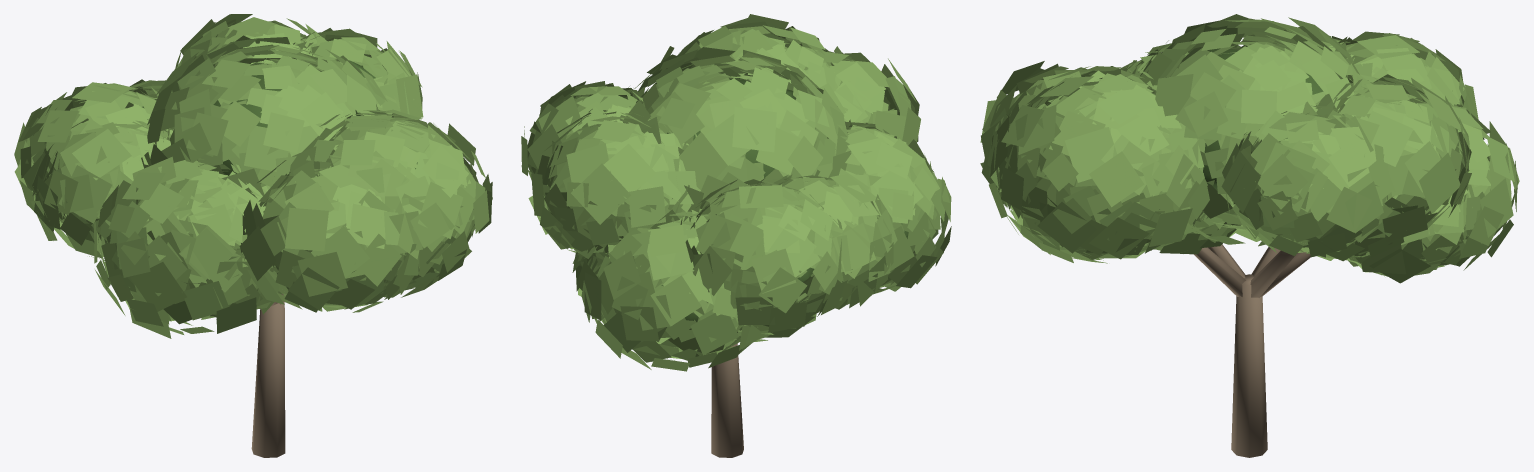
The model's file is arbre_neem1.glb.
The picture shows the model from 3 angles, left to right: view 1: azimuth 30°, elevation 25°; view 2: azimuth 150°, elevation 25°; view 3: azimuth 270°, elevation 25°; orthographic projection. The views are drawn at different scales.
Parts seen in each view (by area): view 1: arbre_neem1; view 2: arbre_neem1; view 3: arbre_neem1.
Part boxes in pixels (x1,y1,x2,y2): arbre_neem1: (14, 14, 492, 457); arbre_neem1: (521, 14, 951, 457); arbre_neem1: (980, 14, 1519, 457).
Bounding box in the file's own units: 7.82 × 8.06 × 9.46.
